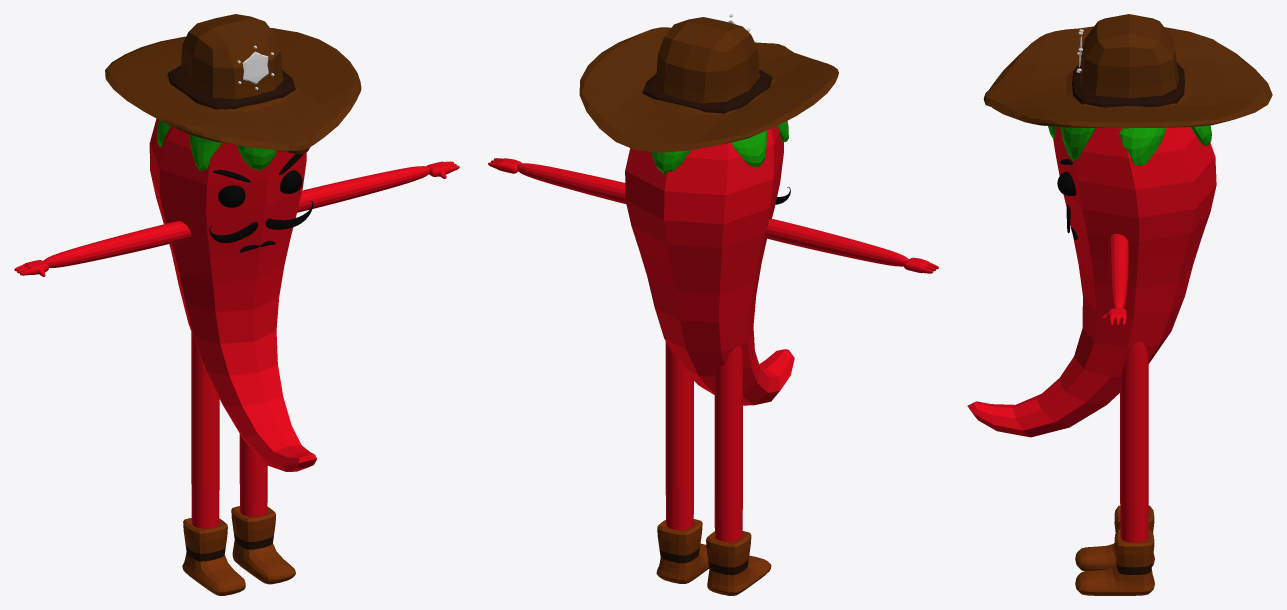
Rendered from PicanteBeta.fbx.
3 renders of one model, left to right at view 1: azimuth 30°, elevation 25°; view 2: azimuth 150°, elevation 25°; view 3: azimuth 270°, elevation 25°, orthographic.
Parts seen in each view (by area): view 1: Cube; view 2: Cube; view 3: Cube.
Boxes of the visible parts, x1,y1,x2,y2 form: Cube: [14, 14, 459, 595]; Cube: [488, 14, 938, 595]; Cube: [967, 14, 1272, 595].
Bounding box in the file's own units: 104 × 125 × 62.19.
